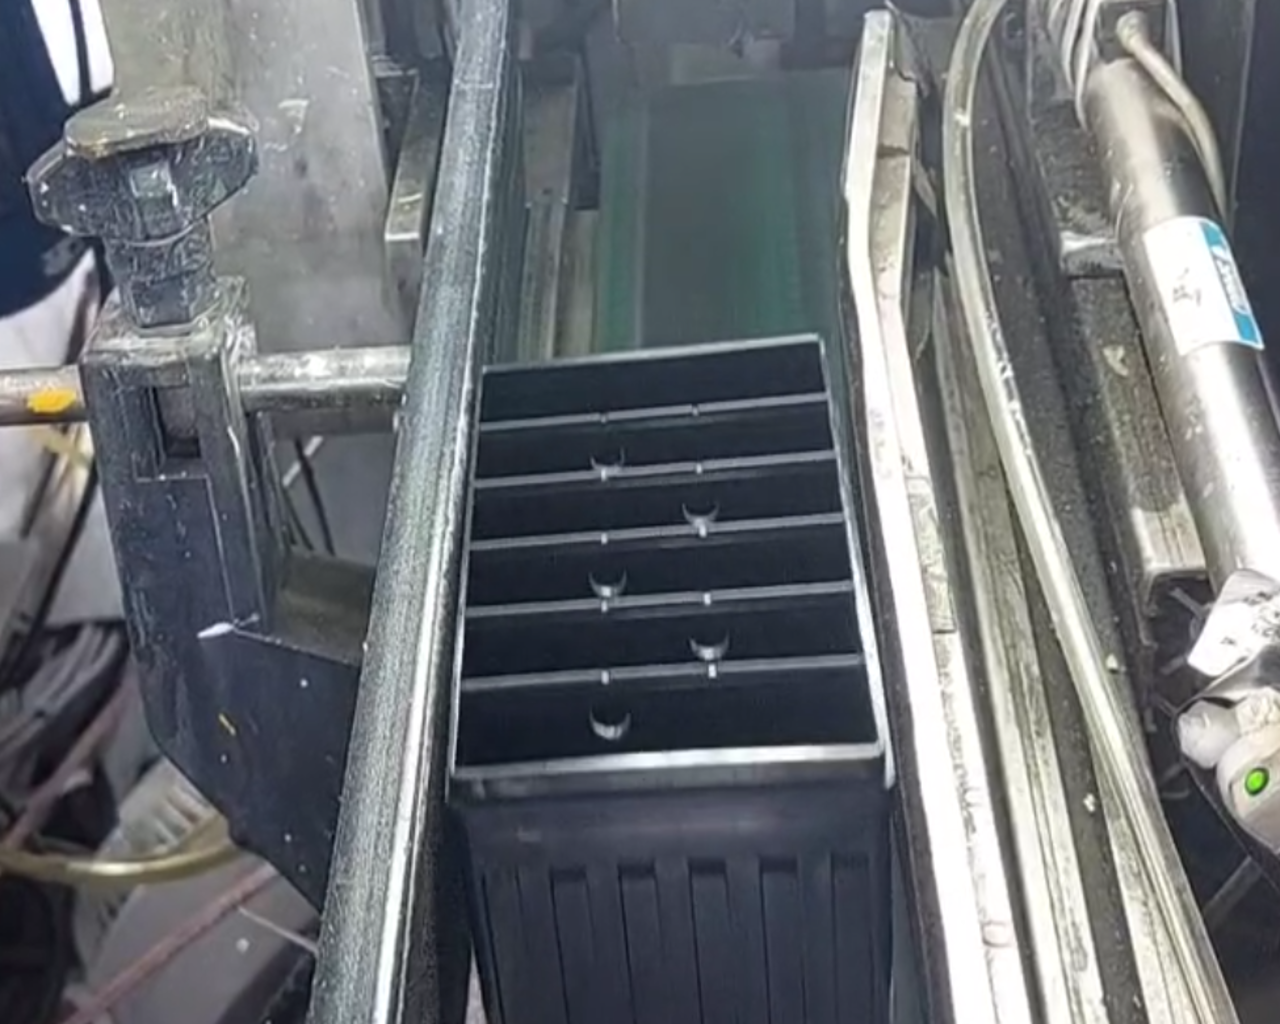box: (432, 320, 912, 825)
round: (579, 550, 638, 604), (674, 612, 737, 662), (579, 696, 641, 746), (668, 481, 729, 531), (579, 432, 633, 476)
